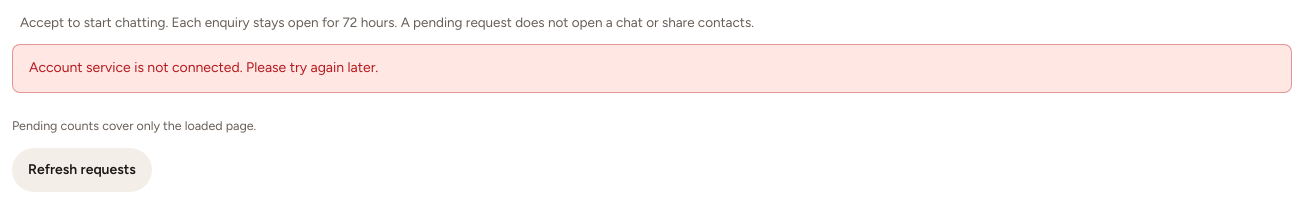
Test: distinguishes errors from empty results and recovers through refresh
Expected: the message "Account service is not connected. Please try again later." is shown, [12,44,1291,93]
Expected: the text "No incoming requests yet." is not shown
Step 1. Click the button "Refresh requests" → (82, 170), box [12,148,152,192]
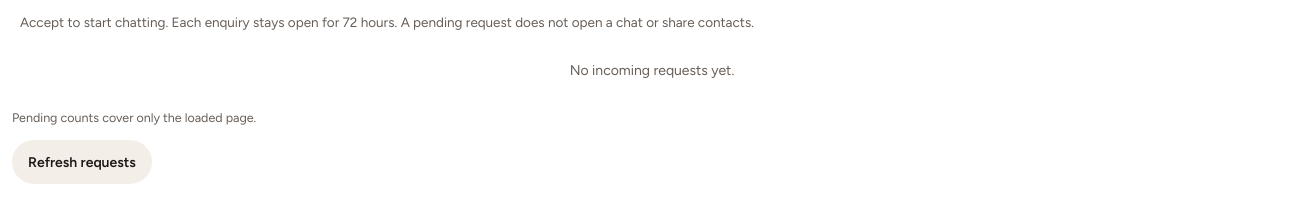
Expected: the element named "Incoming requests" is shown, [12,14,754,184]
Expected: the text "No incoming requests yet." is shown, [570,62,734,79]
